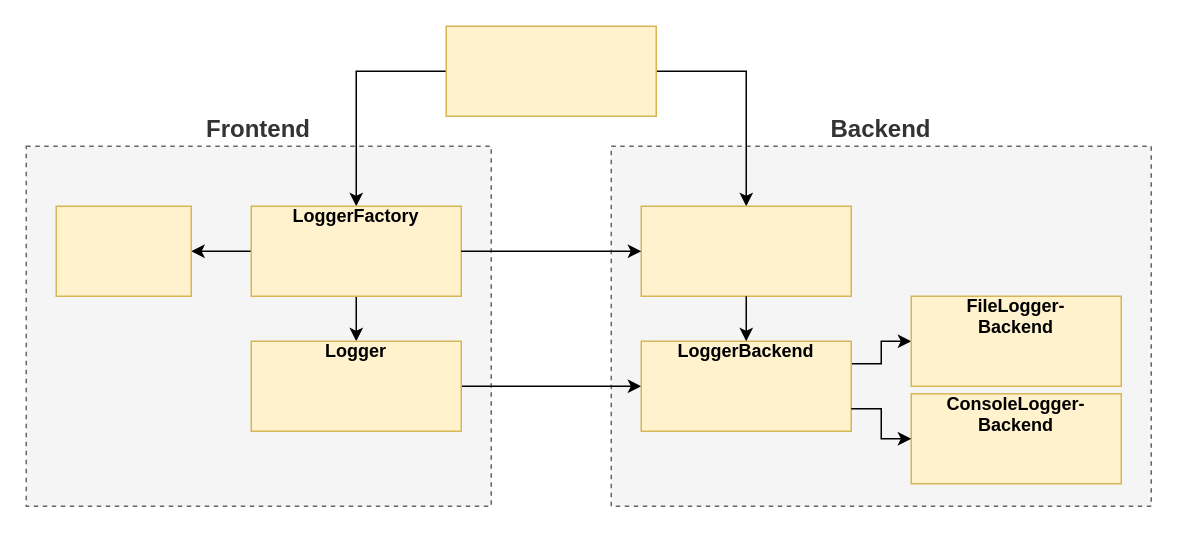
This 1178x533 diagram has some shape labels left out. The centre of each missing label's shape, as x and y in pixels:
Configuration: pixel 123 250
LoggerBackend- Manager: pixel 745 250
LogManager: pixel 550 70
